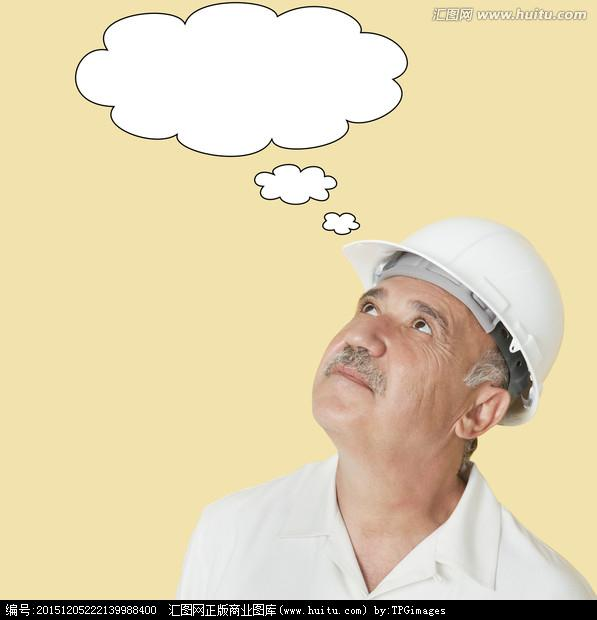helmet: (343, 192, 558, 430)
